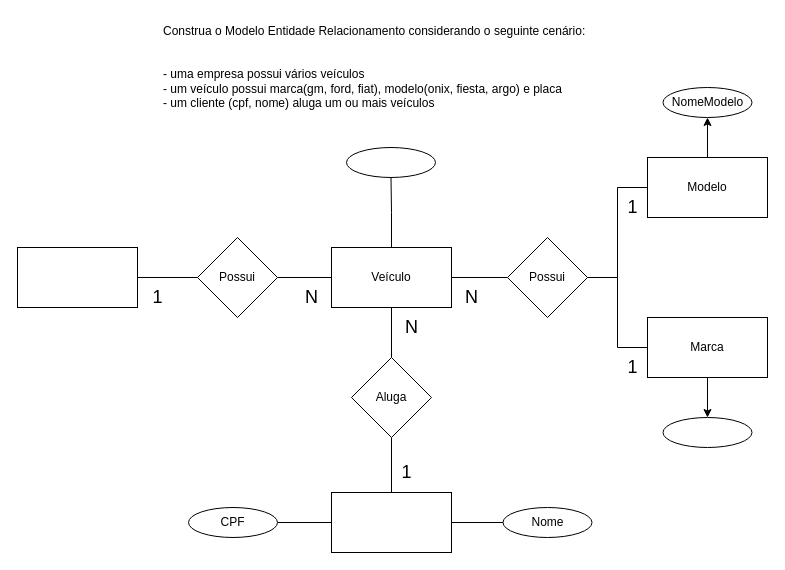
Some shapes in this 785 by 570 pixel diagram are drawn without their labels. The centre of each missing label's shape, as x and y in pixels:
"Cliente" goes at pixel 391 522.
"Empresa" goes at pixel 77 277.
"NomeMarca" goes at pixel 707 432.
"Placa" goes at pixel 391 162.
